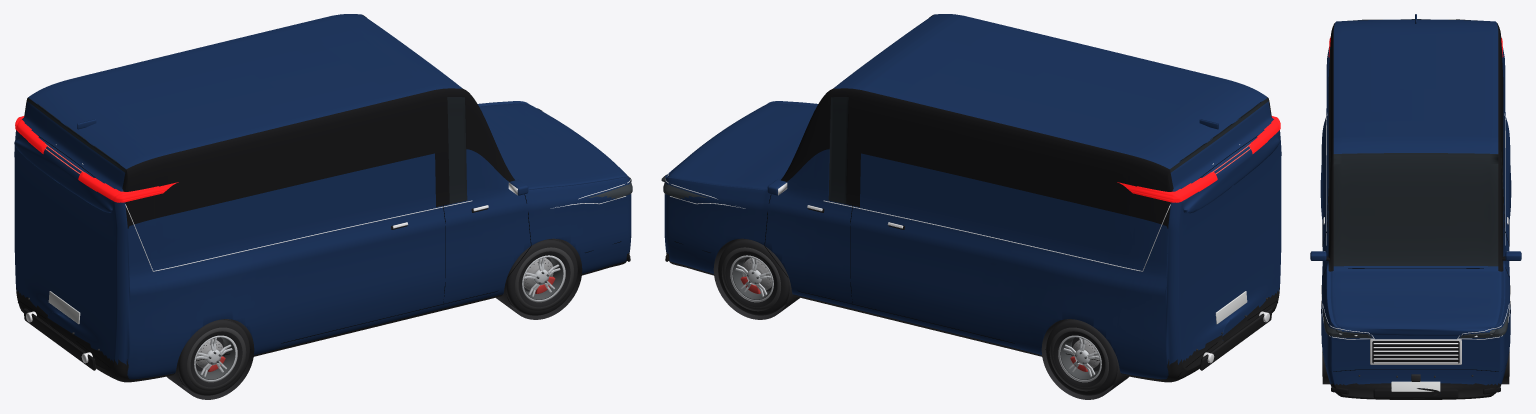
Rendered from transporter.glb.
The picture shows the model from 3 angles, left to right: view 1: azimuth 30°, elevation 25°; view 2: azimuth 150°, elevation 25°; view 3: azimuth 270°, elevation 25°; orthographic projection. The views are drawn at different scales.
Parts seen in each view (by area): view 1: karosserie, bt:rad_hr, bt:rad_vr, rueckleuchte_-1, diffusor, radhausschale.003, radhausschale.001, zierleiste_-1; view 2: karosserie, bt:rad_hl, bt:rad_vl, rueckleuchte_1, diffusor, radhausschale.002, radhausschale, zierleiste_1; view 3: karosserie, grill, lufteinlass, kennzeichen_vorn, grill_rahmen, scheinwerfer_-1, scheinwerfer_1.
Boxes of the visible parts, bbox=[...] form: karosserie: bbox=[14, 14, 631, 382]; bt:rad_hr: bbox=[178, 319, 249, 395]; bt:rad_vr: bbox=[506, 238, 577, 315]; rueckleuchte_-1: bbox=[78, 171, 178, 202]; diffusor: bbox=[23, 308, 95, 370]; radhausschale.003: bbox=[167, 319, 254, 399]; radhausschale.001: bbox=[496, 239, 582, 319]; zierleiste_-1: bbox=[82, 163, 472, 271]; karosserie: bbox=[664, 14, 1281, 382]; bt:rad_hl: bbox=[1046, 319, 1117, 395]; bt:rad_vl: bbox=[718, 238, 789, 315]; rueckleuchte_1: bbox=[1117, 171, 1217, 202]; diffusor: bbox=[1200, 308, 1272, 370]; radhausschale.002: bbox=[1041, 319, 1128, 399]; radhausschale: bbox=[713, 239, 799, 319]; zierleiste_1: bbox=[823, 163, 1213, 271]; karosserie: bbox=[1320, 19, 1511, 399]; grill: bbox=[1372, 341, 1459, 363]; lufteinlass: bbox=[1373, 389, 1458, 398]; kennzeichen_vorn: bbox=[1391, 381, 1440, 391]; grill_rahmen: bbox=[1370, 339, 1461, 364]; scheinwerfer_-1: bbox=[1322, 309, 1371, 338]; scheinwerfer_1: bbox=[1460, 309, 1509, 338].
Bounding box in the file's own units: 5.29 × 2.4 × 2.24.
